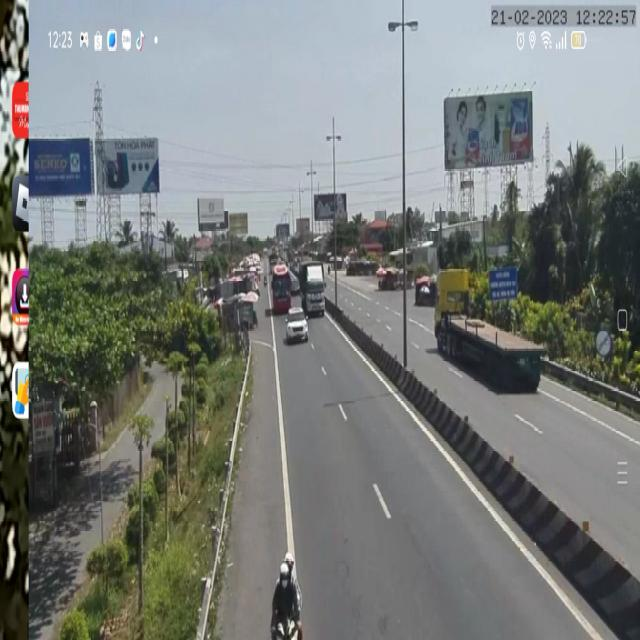bus: (270, 258, 292, 317)
car: (284, 300, 307, 342)
motorbike: (268, 548, 307, 640)
truck: (435, 265, 547, 395), (296, 258, 328, 320)
